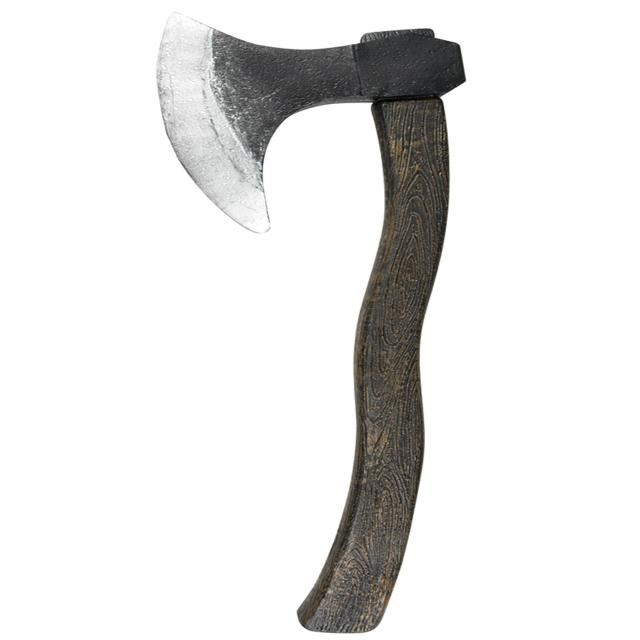Kapak: (145, 13, 478, 636)
